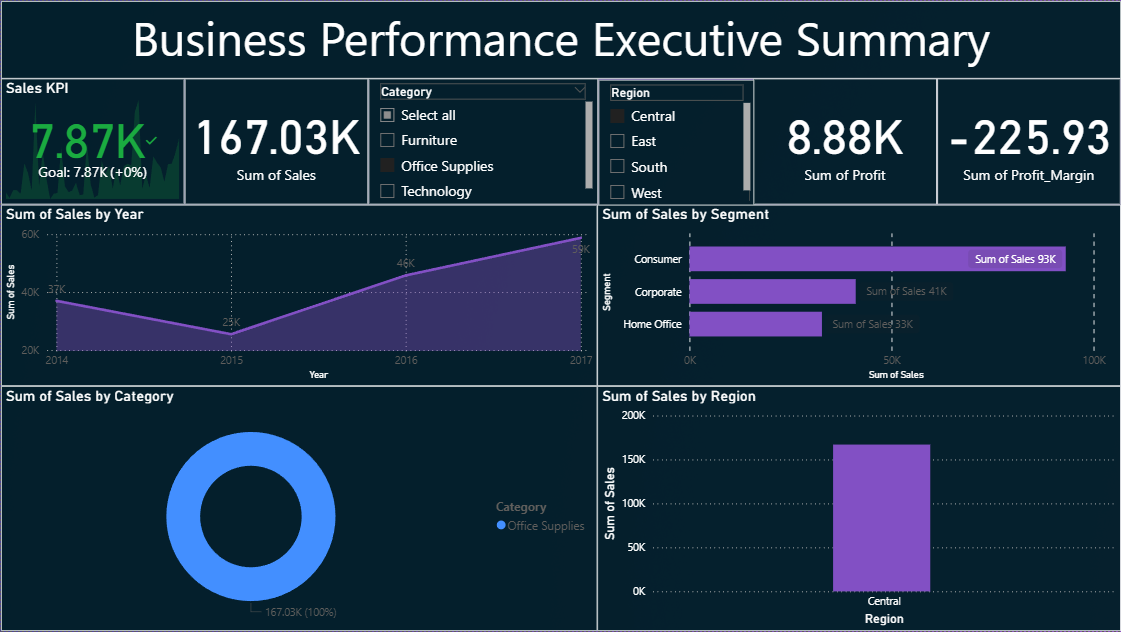

Layout of this report page (visuals, bound fields, positions):
{"tool":"powerbi","page":{"name":"Page 1","canvas":[1280,720],"ordinal":0},"visuals":[{"type":"lineChart","fields":{"Category":["Superstore_clean.MonthYear.Variation.Date Hierarchy.Year","Superstore_clean.MonthYear.Variation.Date Hierarchy.Quarter","Superstore_clean.MonthYear.Variation.Date Hierarchy.Month","Superstore_clean.MonthYear.Variation.Date Hierarchy.Day"],"Y":["Sum(Superstore_clean.Sales)"]},"box":[0,233.3,682,207.2],"z":0},{"type":"clusteredColumnChart","fields":{"Category":["Superstore_clean.Region"],"Y":["Sum(Superstore_clean.Sales)"]},"box":[682,440.5,598.3,279.9],"z":1000},{"type":"donutChart","fields":{"Category":["Superstore_clean.Category"],"Y":["Sum(Superstore_clean.Sales)"]},"box":[0,440.5,682,279.9],"z":2000},{"type":"kpi","title":"Sales KPI","fields":{"Indicator":["Sum(Superstore_clean.Sales)"],"TrendLine":["Superstore_clean.YearMonth"],"Goal":["Sum(Superstore_clean.Sales)"]},"box":[0,89.2,209.9,144.1],"z":3000},{"type":"slicer","fields":{"Values":["Superstore_clean.Region"]},"box":[682.9,89.6,179.1,144.3],"z":4000},{"type":"slicer","fields":{"Values":["Superstore_clean.Category"]},"box":[419.9,89.2,262.1,144.1],"z":5000},{"type":"card","fields":{"Values":["Sum(Superstore_clean.Sales)"]},"box":[209.9,89.2,209.9,144.1],"z":6000},{"type":"card","fields":{"Values":["Sum(Superstore_clean.Profit)"]},"box":[860.4,89.2,209.9,144.1],"z":7000},{"type":"card","fields":{"Values":["Sum(Superstore_clean.Profit_Margin)"]},"box":[1070.3,89.2,209.9,144.1],"z":8000},{"type":"clusteredBarChart","fields":{"Category":["Superstore_clean.Segment"],"Y":["Sum(Superstore_clean.Sales)"]},"box":[682,233.3,598.3,207.2],"z":9000},{"type":"textbox","box":[0,0,1280.3,89.2],"z":10000}]}

Visuals, with their boxes in screenshot pixels (x1, y1, x2, y2), scaled from the page's 1280x720 canvas onto the 1121x632 screenshot:
lineChart - Superstore_clean.MonthYear.Variation.Date Hierarchy.Year x Superstore_clean.MonthYear.Variation.Date Hierarchy.Quarter: (left=0, top=205, right=597, bottom=387)
clusteredColumnChart - Superstore_clean.Region x Sum(Superstore_clean.Sales): (left=597, top=387, right=1120, bottom=631)
donutChart - Superstore_clean.Category x Sum(Superstore_clean.Sales): (left=0, top=387, right=597, bottom=631)
"Sales KPI" kpi: (left=0, top=78, right=184, bottom=205)
slicer - Superstore_clean.Region: (left=598, top=79, right=755, bottom=205)
slicer - Superstore_clean.Category: (left=368, top=78, right=597, bottom=205)
card - Sum(Superstore_clean.Sales): (left=184, top=78, right=368, bottom=205)
card - Sum(Superstore_clean.Profit): (left=754, top=78, right=937, bottom=205)
card - Sum(Superstore_clean.Profit_Margin): (left=937, top=78, right=1120, bottom=205)
clusteredBarChart - Superstore_clean.Segment x Sum(Superstore_clean.Sales): (left=597, top=205, right=1120, bottom=387)
textbox: (left=0, top=0, right=1120, bottom=78)
